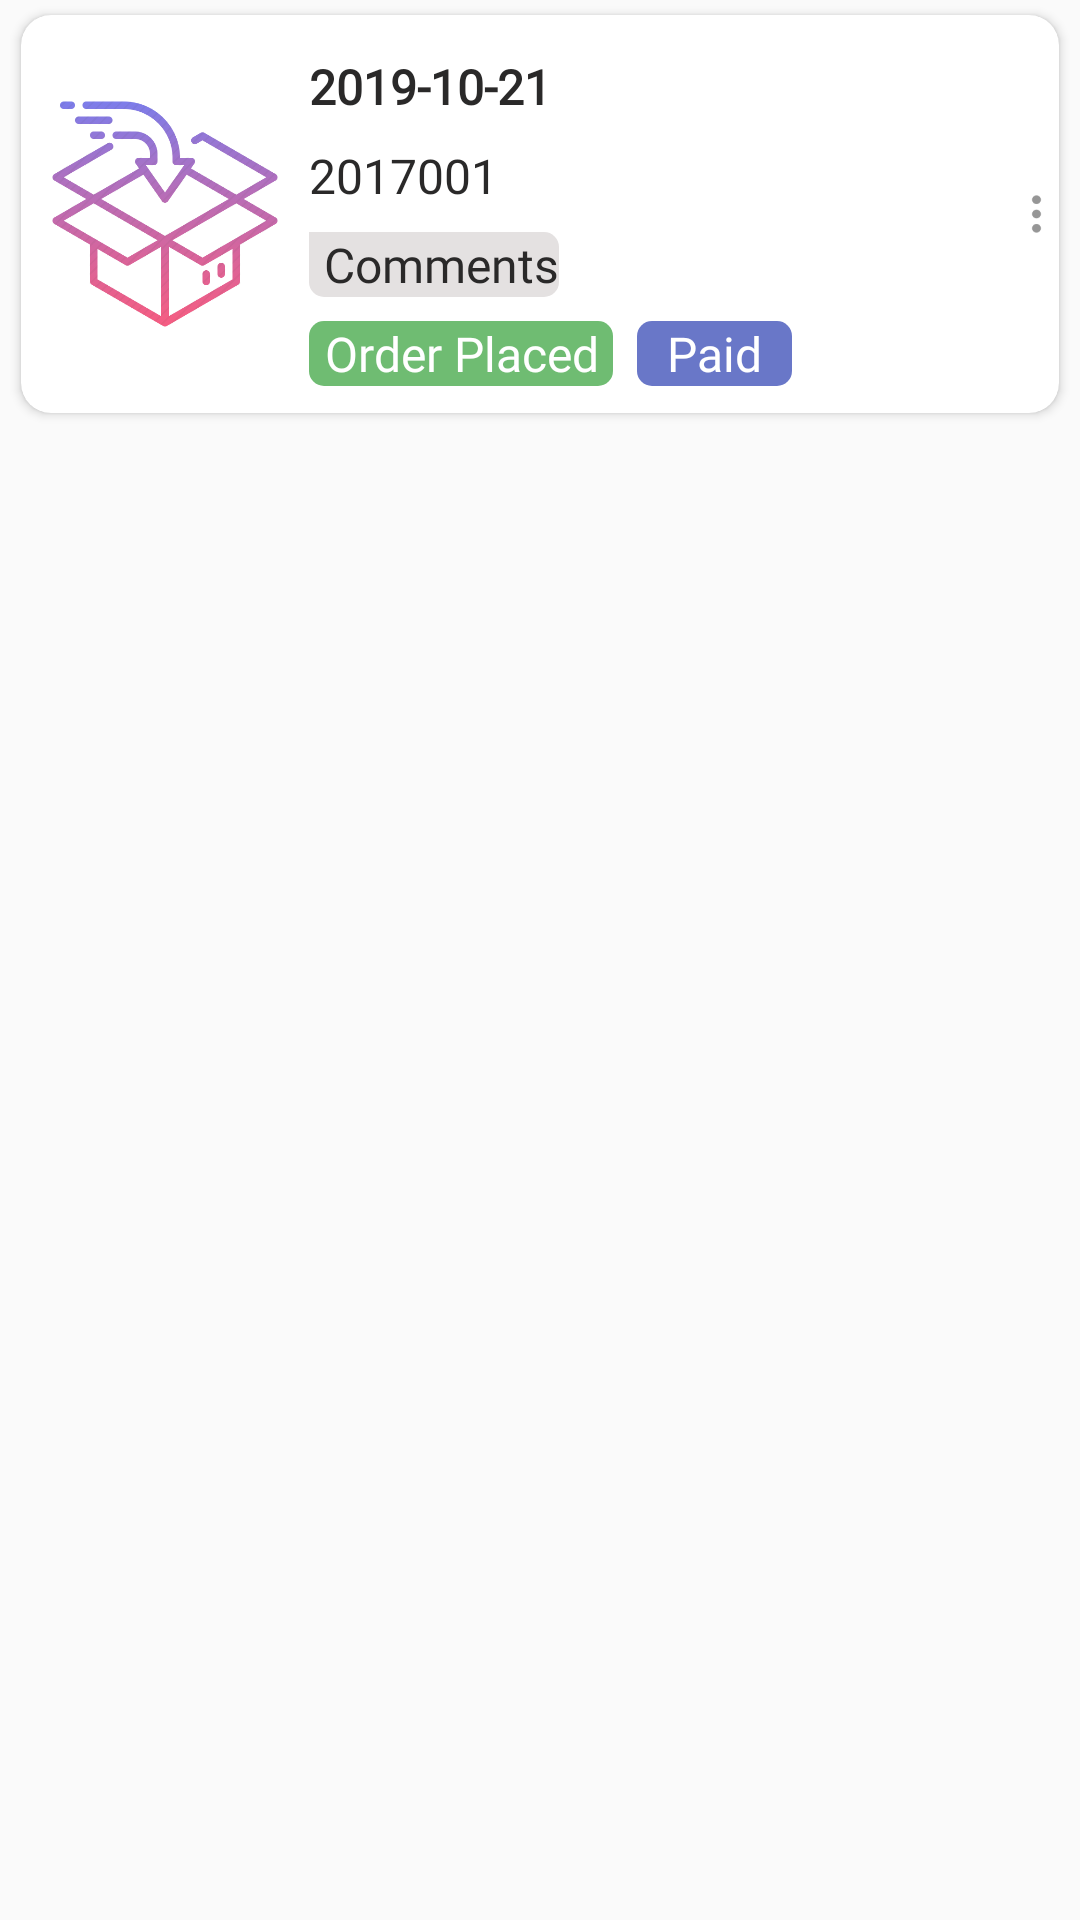

Icon bounding boxes for this 1080px x 1920px phone screenshot, format BBox(x1, y1, x2, y2):
orders: BBox(52, 101, 278, 327)
